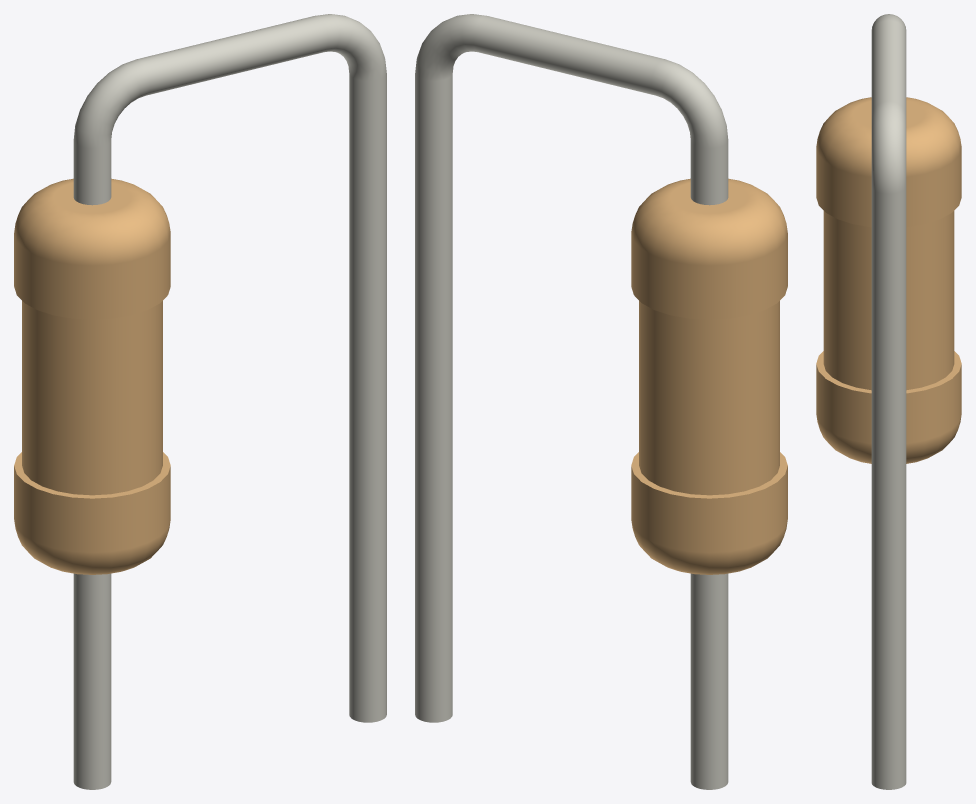
Rendered from Resistor_THT__R_Axial_DIN0207_L6.3mm_D2.5mm_P5.08mm_Vertical.glb.
3 renders of one model, left to right at view 1: azimuth 30°, elevation 25°; view 2: azimuth 150°, elevation 25°; view 3: azimuth 270°, elevation 25°, orthographic. The views are drawn at different scales.
Visible parts, largest first — view 1: R_Axial_DIN0207_L63mm_D25mm_P508mm_Vertical; view 2: R_Axial_DIN0207_L63mm_D25mm_P508mm_Vertical; view 3: R_Axial_DIN0207_L63mm_D25mm_P508mm_Vertical.
Boxes of the visible parts, x1=… form: R_Axial_DIN0207_L63mm_D25mm_P508mm_Vertical: x1=14, y1=14, x2=386, y2=789; R_Axial_DIN0207_L63mm_D25mm_P508mm_Vertical: x1=415, y1=14, x2=787, y2=789; R_Axial_DIN0207_L63mm_D25mm_P508mm_Vertical: x1=816, y1=14, x2=961, y2=789.
Bounding box in the file's own units: 0.00663 × 0.0125 × 0.0025.
